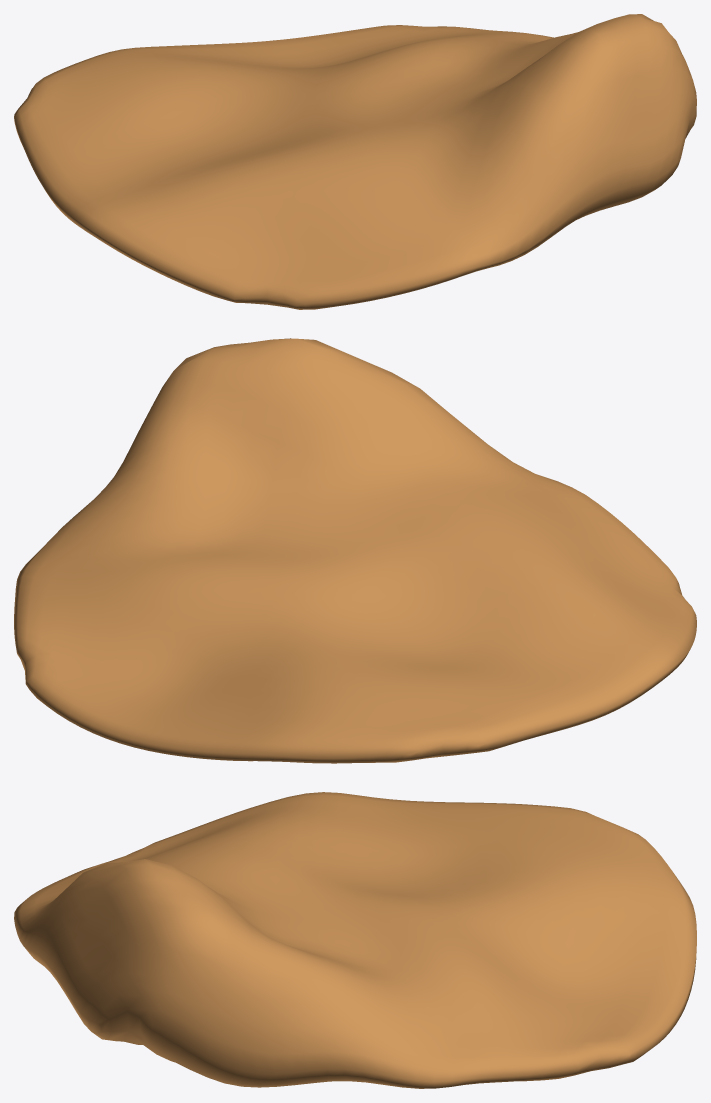
File: SandPatch2.fbx
The picture shows the model from 3 angles, top to bottom: view 1: azimuth 30°, elevation 25°; view 2: azimuth 150°, elevation 25°; view 3: azimuth 270°, elevation 25°; orthographic projection. The views are drawn at different scales.
Parts seen in each view (by area): view 1: SandPatch2; view 2: SandPatch2; view 3: SandPatch2.
Part boxes in pixels (x1,y1,x2,y2): SandPatch2: [14, 14, 696, 309]; SandPatch2: [14, 338, 696, 763]; SandPatch2: [14, 792, 696, 1088].
Bounding box in the file's own units: 29.89 × 29.9 × 9.42.
